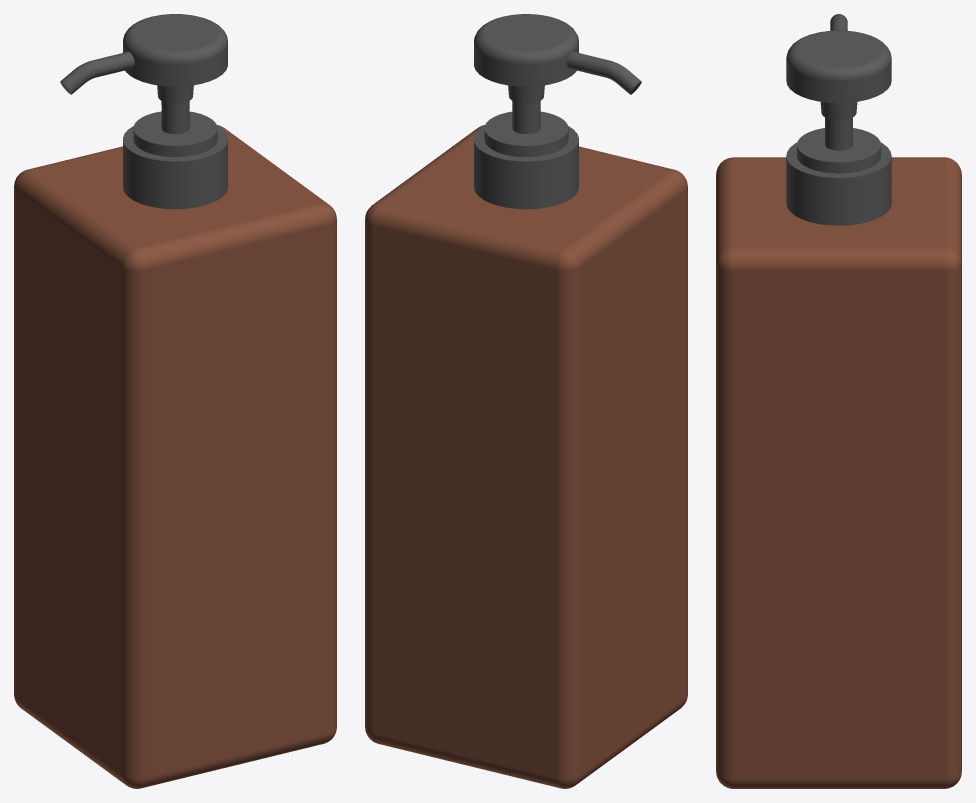
The model's file is 758_shampoo_bottle.glb.
3 renders of one model, left to right at view 1: azimuth 30°, elevation 25°; view 2: azimuth 150°, elevation 25°; view 3: azimuth 270°, elevation 25°, orthographic.
Visible parts, largest first — view 1: body; view 2: body; view 3: body.
Boxes of the visible parts, x1,y1,x2,y2 form: body: (14,14,336,788); body: (365,14,687,788); body: (716,14,961,788).
Bounding box in the file's own units: 0.0723 × 0.218 × 0.07.
